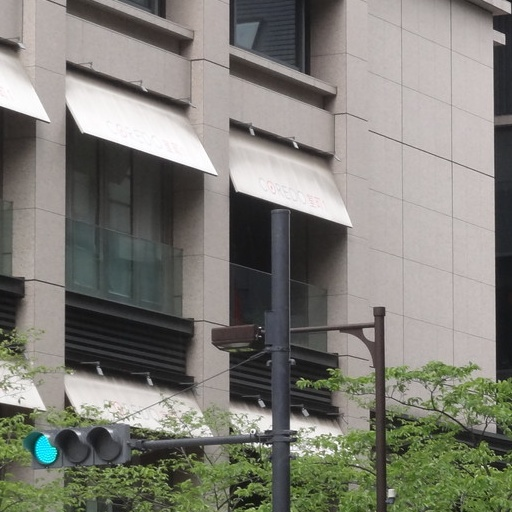Traffic_Signal_Blue: (30, 415, 129, 469)
